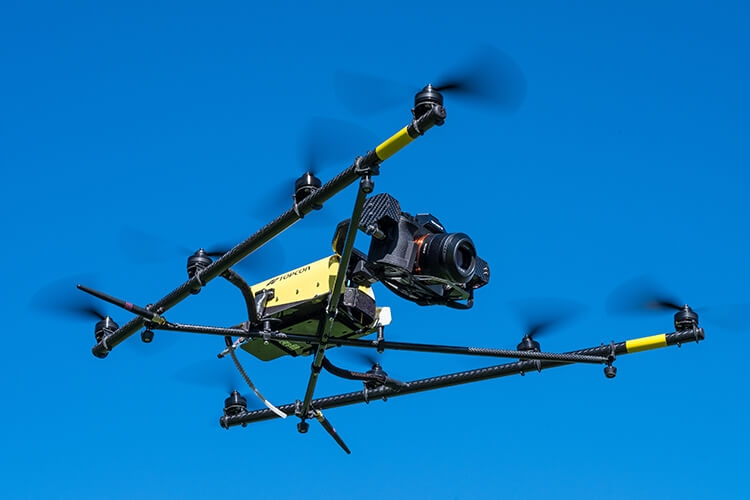drone: (16, 38, 744, 456)
